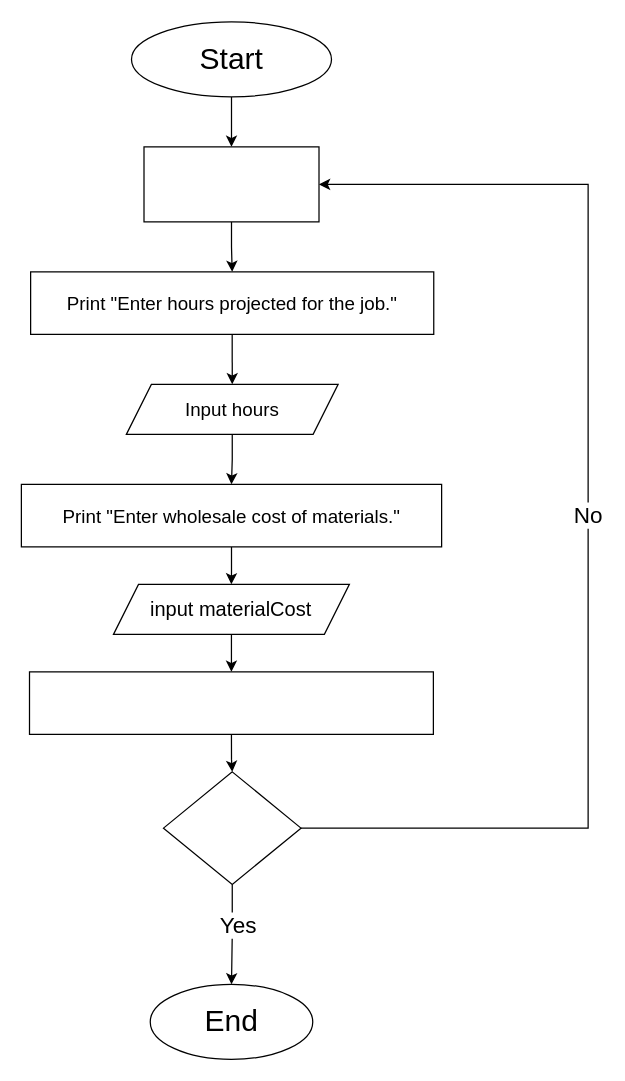
Some shapes in this 625 by 1081 pixel diagram are drawn without their labels. Here are the shapes that lost their labels. From the top down, the box of each, then its label:
(143, 146, 319, 222): Start Detail Loop
(28, 671, 433, 734): Cost = hours x 30 + materialCost x 1.2
(162, 771, 301, 884): Hours = 0?
